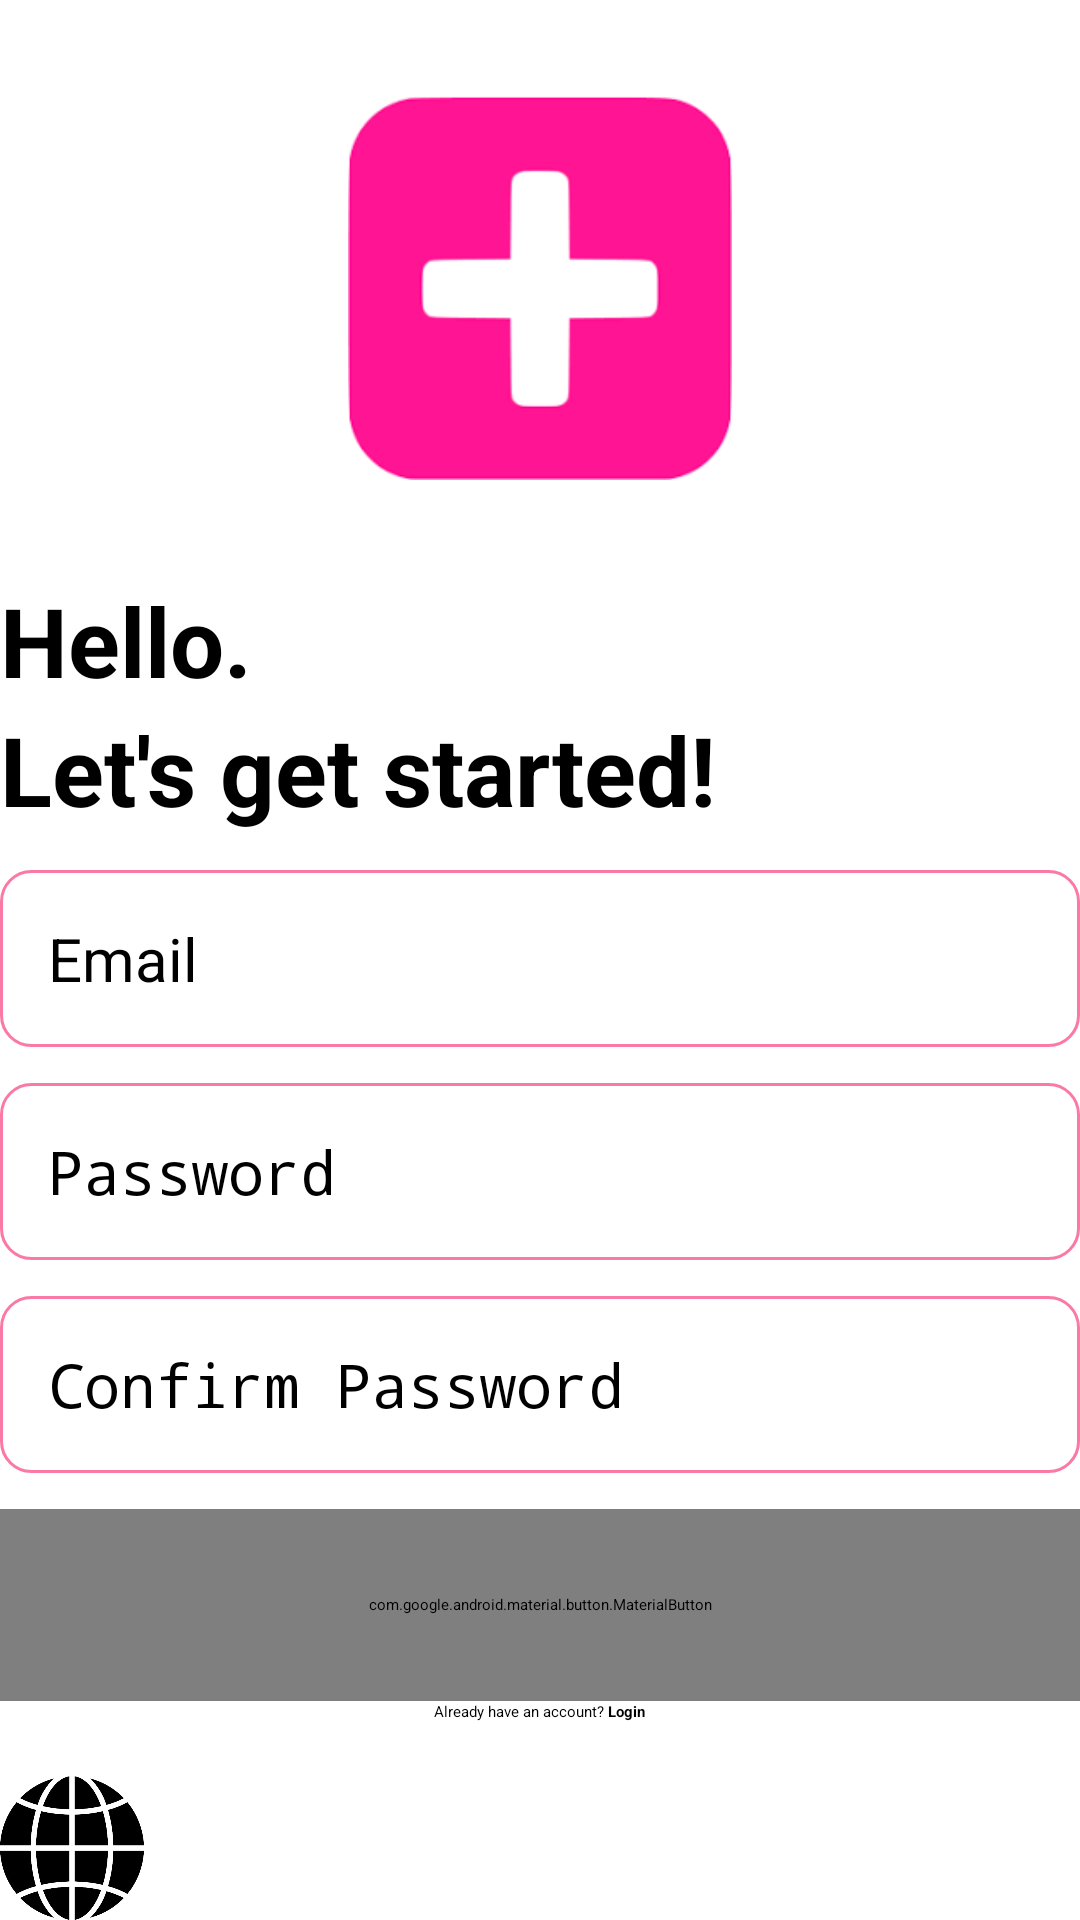

Screen size 1080×1920. Icon name, then its box in pixels as (x1, y1, x2, y2):
language: (0, 1776, 144, 1920)
